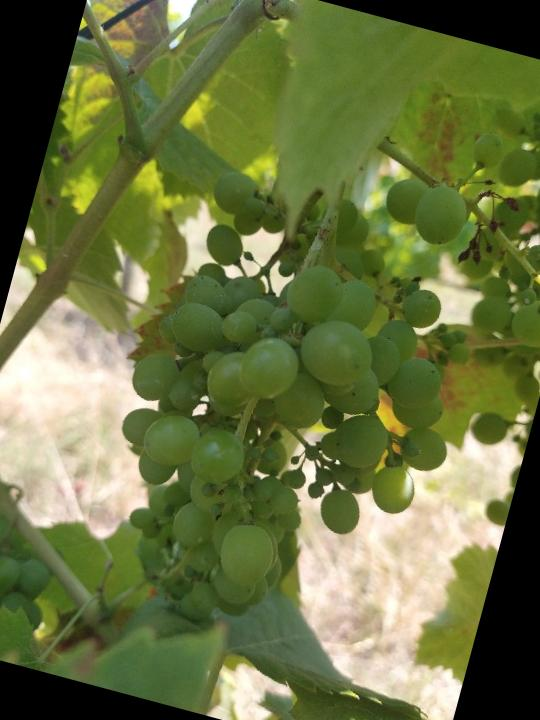grape: (68, 55, 534, 680)
